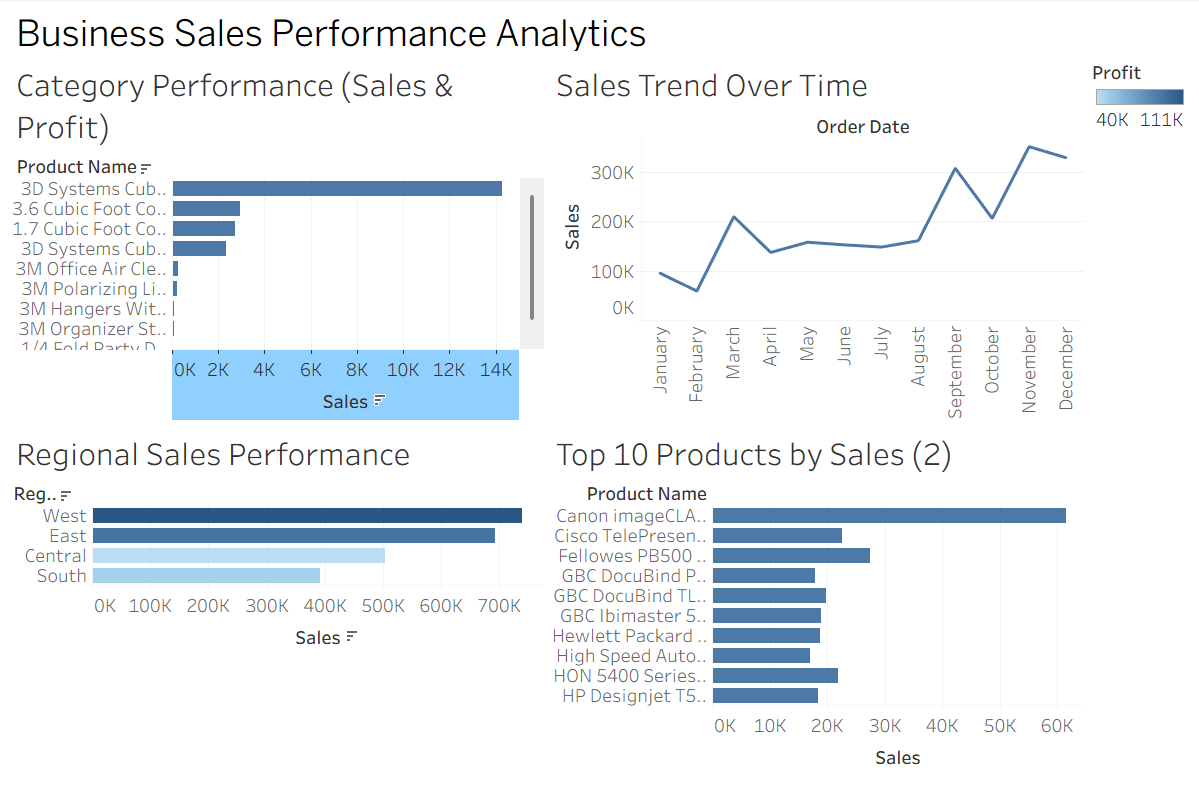

This screenshot's page, from the dashboard's own definition file:
{"tool":"tableau","page":{"name":"Dashboard 1","canvas":[1200,800],"ordinal":0},"visuals":[{"type":"title","box":[8,8,1184,45]},{"type":"worksheet","title":"Category Performance (Sales & Profit)","mark":"Bar","rows":["Product Name"],"cols":["Sales"],"box":[8,53,540,369.5]},{"type":"worksheet","title":"Sales Trend Over Time","mark":"Automatic","rows":["Sales"],"cols":["Order Date"],"box":[548,53,540,369.5]},{"type":"legend","title":"Regional Sales Performance","param":"[Sample - Superstore].[sum:Profit:qk]","box":[1088,53,104,81]},{"type":"worksheet","title":"Regional Sales Performance","mark":"Bar","rows":["Region"],"cols":["Sales"],"box":[8,422.5,540,369.5]},{"type":"worksheet","title":"Top 10 Products by Sales (2)","mark":"Bar","rows":["Product Name"],"cols":["Sales"],"box":[548,422.5,540,369.5]}]}

Visuals, with their boxes in screenshot pixels (x1, y1, x2, y2), scaled from the page's 1200x800 canvas onto the 1199x799 screenshot:
title: left=8, top=8, right=1191, bottom=53
"Category Performance (Sales & Profit)" worksheet (Bar marks): left=8, top=53, right=548, bottom=422
"Sales Trend Over Time" worksheet: left=548, top=53, right=1087, bottom=422
"Regional Sales Performance" legend: left=1087, top=53, right=1191, bottom=134
"Regional Sales Performance" worksheet (Bar marks): left=8, top=422, right=548, bottom=791
"Top 10 Products by Sales (2)" worksheet (Bar marks): left=548, top=422, right=1087, bottom=791
